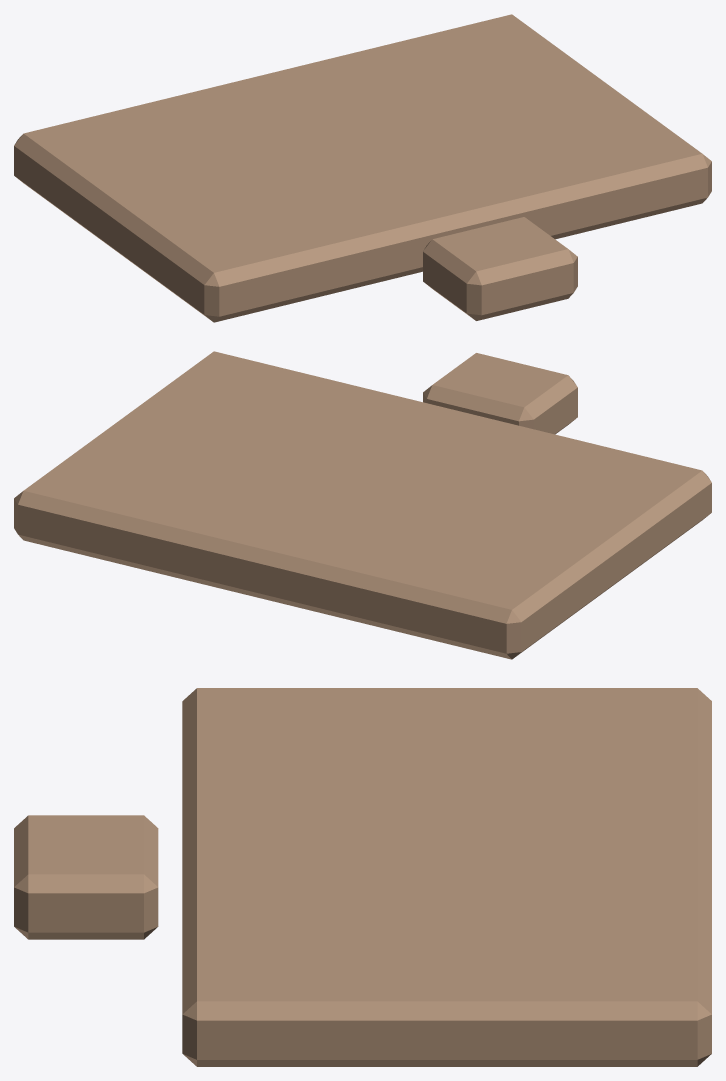
File: SM_Cutting_Board.fbx
The picture shows the model from 3 angles, top to bottom: view 1: azimuth 30°, elevation 25°; view 2: azimuth 150°, elevation 25°; view 3: azimuth 270°, elevation 25°; orthographic projection. The views are drawn at different scales.
Parts seen in each view (by area): view 1: Cutting_Board; view 2: Cutting_Board; view 3: Cutting_Board.
Part boxes in pixels (<box>): Cutting_Board: <box>14,14,711,322</box>; Cutting_Board: <box>14,351,711,659</box>; Cutting_Board: <box>14,688,711,1066</box>.
Size of the model in its own units: 32 by 3 by 29.
